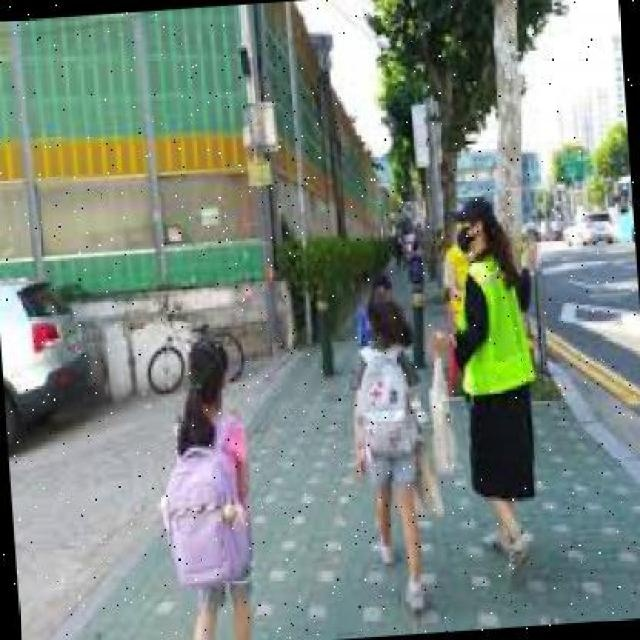obstacle: (448, 198, 552, 577), (170, 332, 264, 638), (357, 292, 438, 612)
